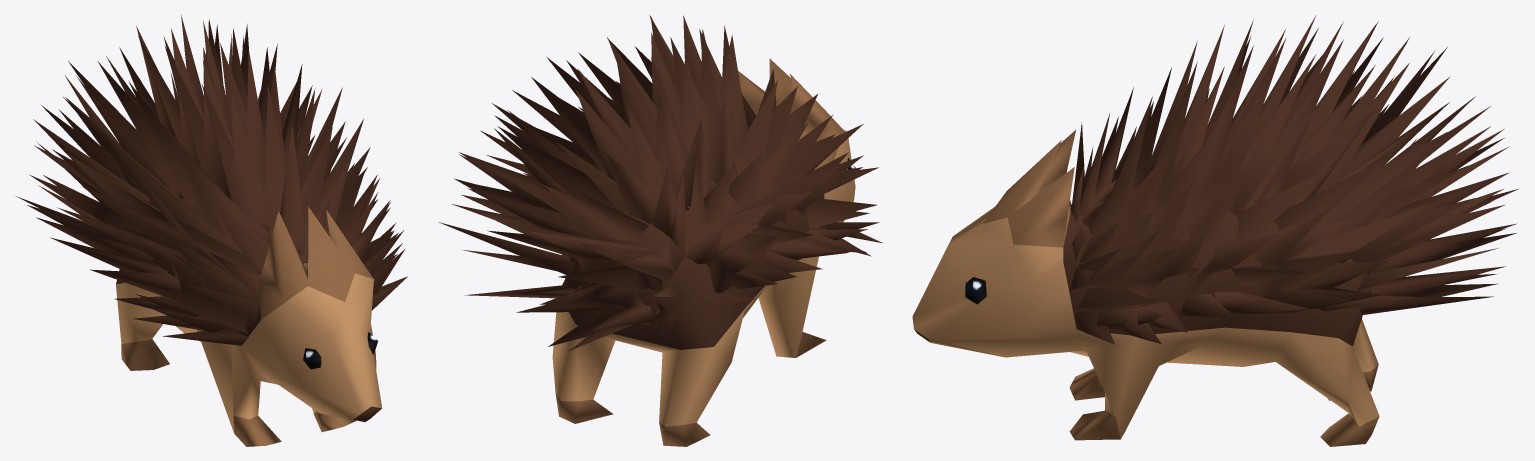
File: Porcupine.glb
3 renders of one model, left to right at view 1: azimuth 30°, elevation 25°; view 2: azimuth 150°, elevation 25°; view 3: azimuth 270°, elevation 25°, orthographic. The views are drawn at different scales.
Parts seen in each view (by area): view 1: Porcupine; view 2: Porcupine; view 3: Porcupine.
Boxes of the visible parts, x1=… form: Porcupine: x1=16, y1=15, x2=407, y2=446; Porcupine: x1=438, y1=15, x2=882, y2=446; Porcupine: x1=912, y1=15, x2=1518, y2=446.
Size of what is drawn, in the model's own units: 0.7428 by 0.7659 by 1.1.
Materials: 1 (1 with a texture image).
